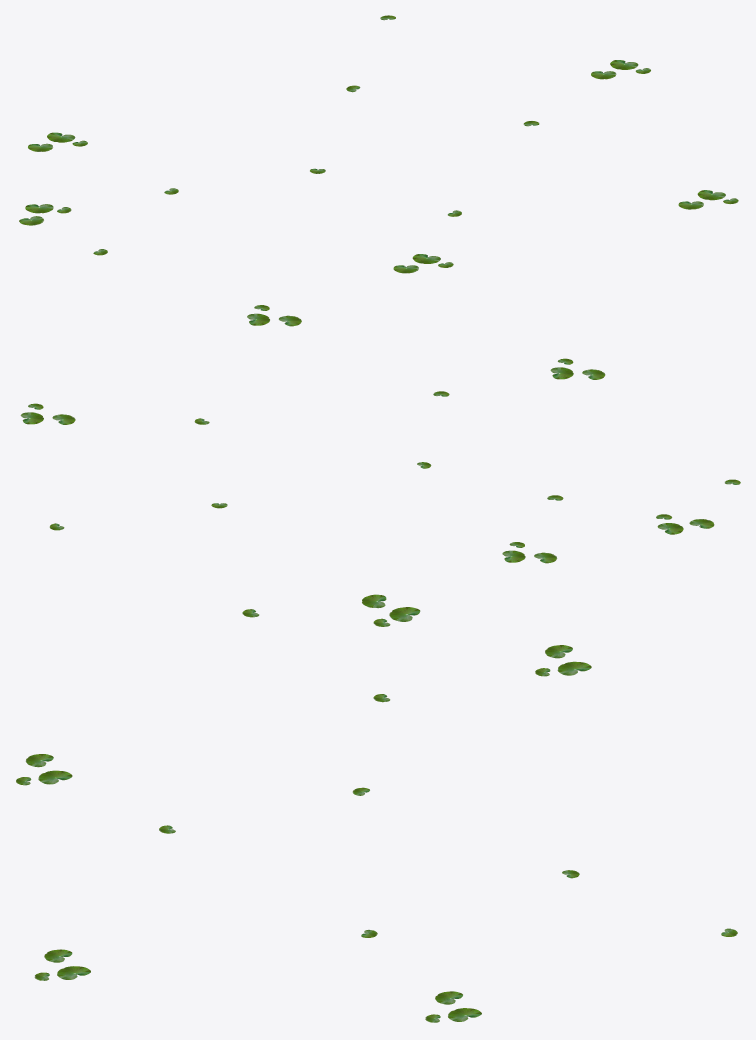
File: reberReaf.fbx
3 views of the same model, one above another, from view 1: azimuth 30°, elevation 25°; view 2: azimuth 150°, elevation 25°; view 3: azimuth 270°, elevation 25° (orthographic). The views are drawn at different scales.
Parts seen in each view (by area): view 1: lotus; view 2: lotus; view 3: lotus.
Part boxes in pixels (box(x1,y1,x2,y2)): lotus: box(19, 15, 738, 273); lotus: box(20, 305, 740, 563); lotus: box(16, 594, 737, 1022).
Bounding box in the file's own units: 5172 × 172 × 3948.
Materials: 1 (1 with a texture image).
